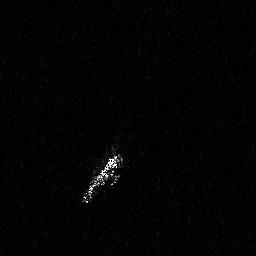ship: (80, 137, 128, 205)
